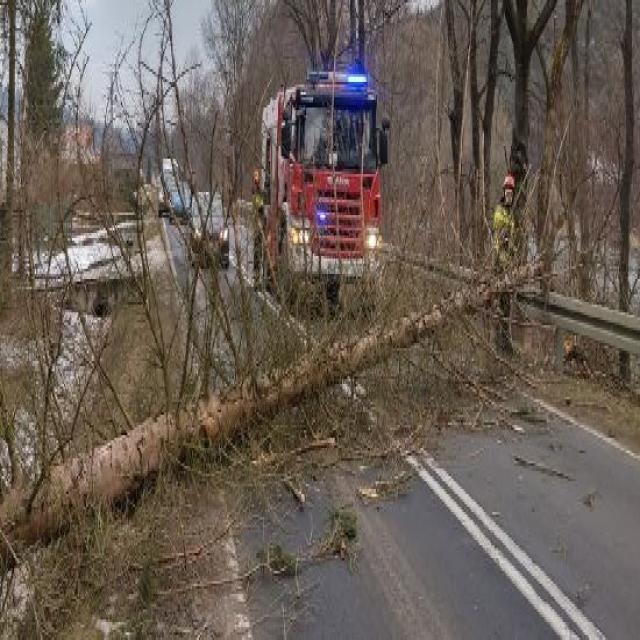fallen_tree: (0, 284, 485, 576)
